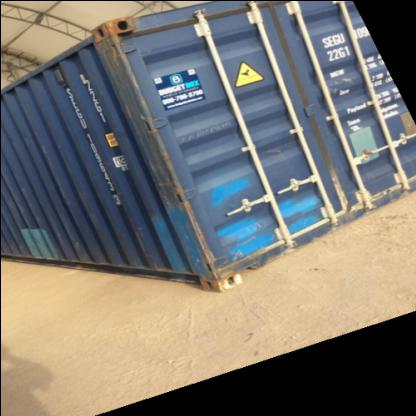Damage: (166, 164, 217, 270), (122, 68, 171, 174), (87, 21, 142, 76), (311, 158, 361, 212)
